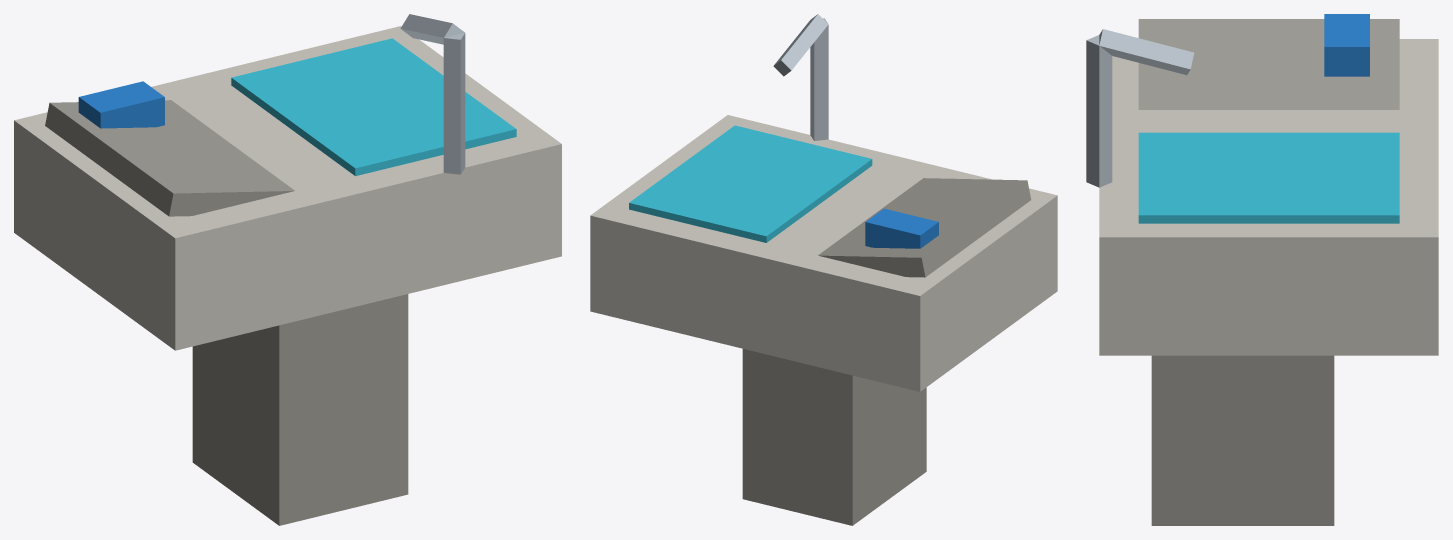
The model's file is tanque_lavar.glb.
3 views of the same model, side by side, from view 1: azimuth 30°, elevation 25°; view 2: azimuth 150°, elevation 25°; view 3: azimuth 270°, elevation 25° (orthographic). The views are drawn at different scales.
Parts seen in each view (by area): view 1: corpo; view 2: corpo; view 3: corpo.
Boxes of the visible parts, <box> form: corpo: <box>14,14,561,525</box>; corpo: <box>590,14,1057,525</box>; corpo: <box>1086,14,1438,525</box>.
Size of the model in its own units: 0.36 by 0.4296 by 0.27.
